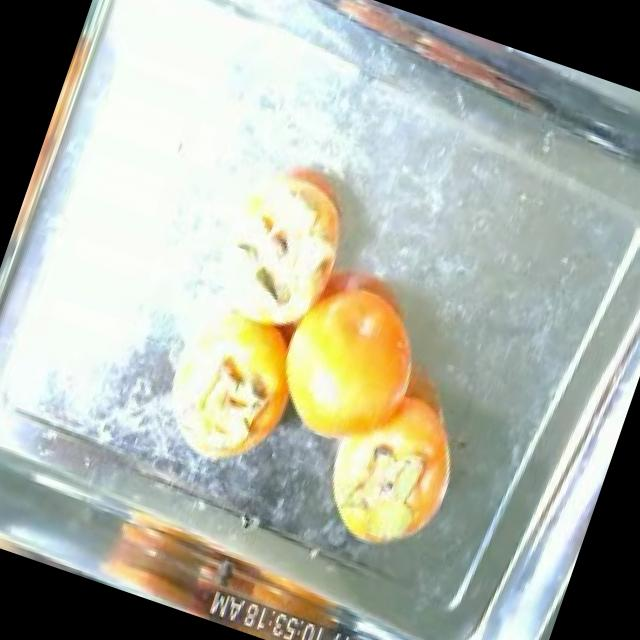Fruit: (249, 228, 456, 482), (296, 401, 472, 577), (81, 483, 258, 626)
